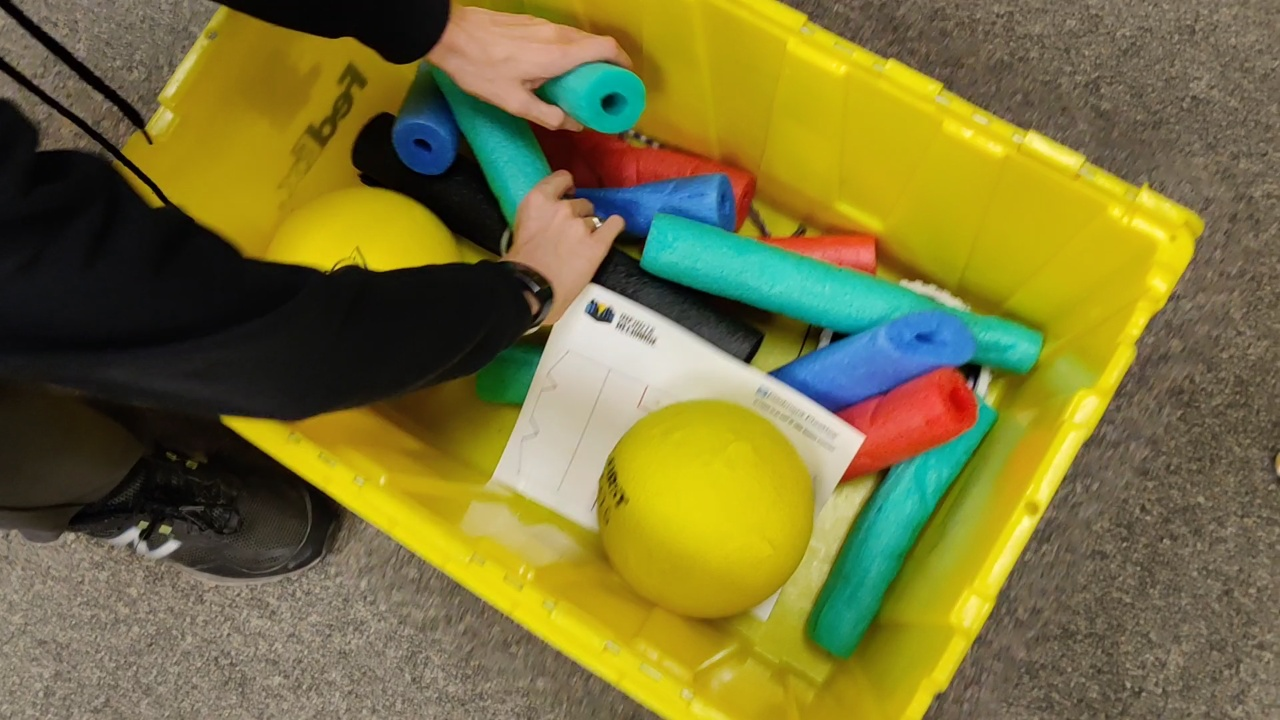Ball: (598, 399, 812, 617)
